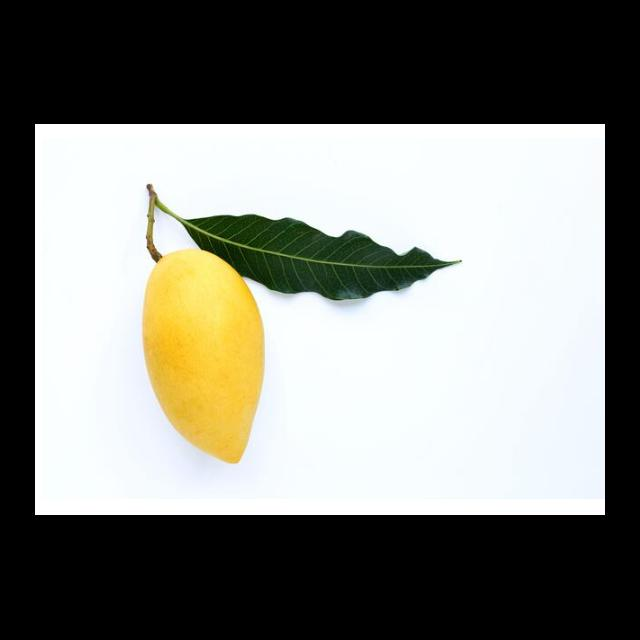mango: (144, 249, 267, 466)
